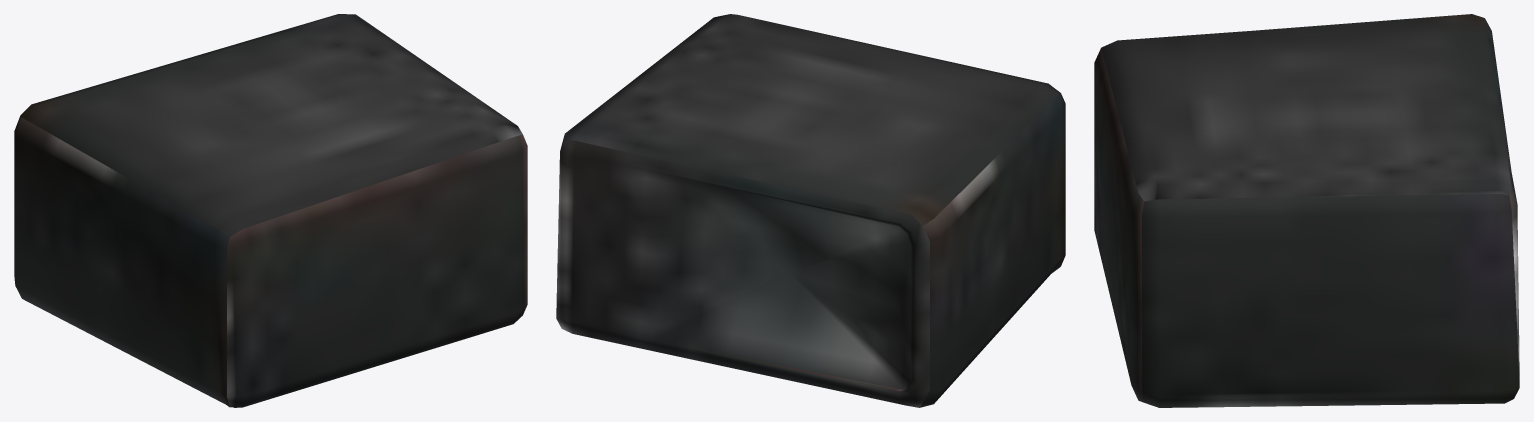
The model's file is office-studio-monitor-small.glb.
The picture shows the model from 3 angles, left to right: view 1: azimuth 30°, elevation 25°; view 2: azimuth 150°, elevation 25°; view 3: azimuth 270°, elevation 25°; orthographic projection. The views are drawn at different scales.
Parts seen in each view (by area): view 1: studio-monitor-small; view 2: studio-monitor-small; view 3: studio-monitor-small.
Boxes of the visible parts, x1,y1,x2,y2 form: studio-monitor-small: (14,14,527,407); studio-monitor-small: (556,14,1065,407); studio-monitor-small: (1094,14,1519,407).
Size of the model in its own units: 0.417 by 0.2172 by 0.375.
1 material, 1 textured.
